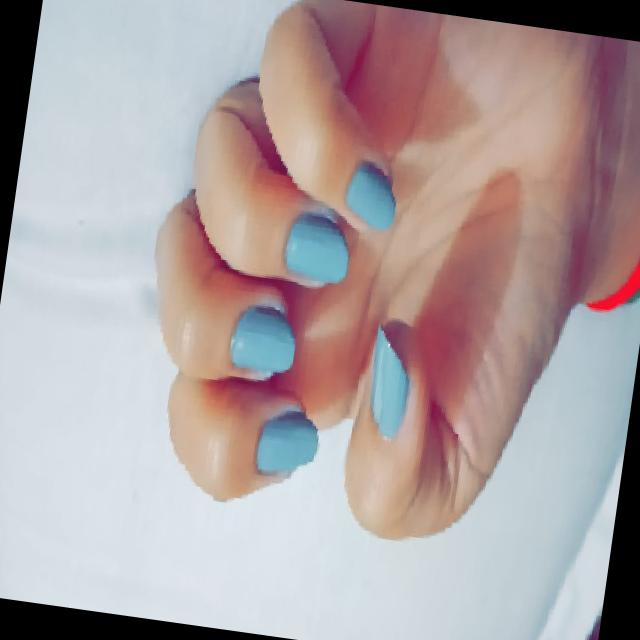Nail: (369, 329, 409, 438), (230, 307, 295, 374), (284, 214, 347, 283), (256, 411, 317, 473), (345, 163, 393, 230)
